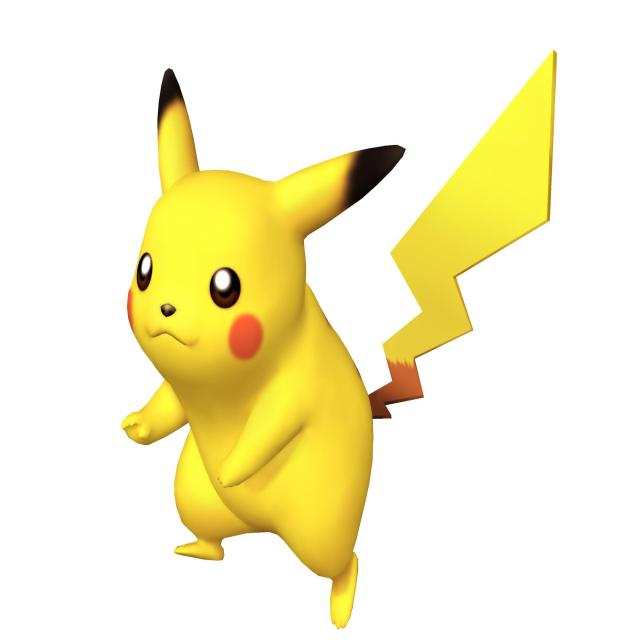pikachu: (122, 49, 558, 629)
